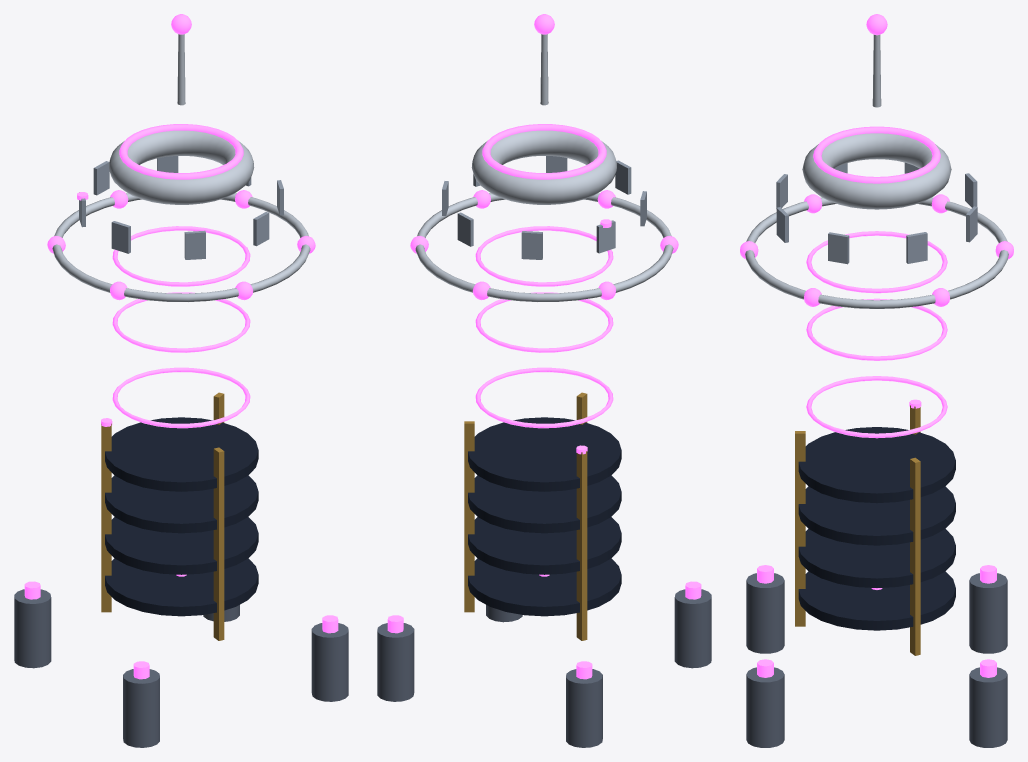
The model's file is tower_arc_damage_s9.glb.
3 renders of one model, left to right at view 1: azimuth 30°, elevation 25°; view 2: azimuth 150°, elevation 25°; view 3: azimuth 270°, elevation 25°, orthographic. The views are drawn at different scales.
Visible parts, largest first — view 1: arc_insulator_sleeve3, arc_toroid_b, arc_insulator_sleeve2, arc_insulator_sleeve1, arc_insulator_sleeve0, arc_electrode_ring, arc_shock_cap0, arc_shock_cap2, arc_shock_cap3, arc_ground_strap2, arc_toroid_b_glow, arc_ground_strap0 (+6 smaller); view 2: arc_insulator_sleeve3, arc_toroid_b, arc_insulator_sleeve2, arc_insulator_sleeve1, arc_insulator_sleeve0, arc_electrode_ring, arc_shock_cap3, arc_shock_cap1, arc_shock_cap0, arc_ground_strap0, arc_toroid_b_glow, arc_ground_strap1 (+5 smaller); view 3: arc_insulator_sleeve3, arc_toroid_b, arc_insulator_sleeve2, arc_insulator_sleeve1, arc_insulator_sleeve0, arc_electrode_ring, arc_shock_cap0, arc_shock_cap3, arc_shock_cap1, arc_shock_cap2, arc_toroid_b_glow, arc_ground_strap1 (+7 smaller).
Boxes of the visible parts, <box> form: arc_insulator_sleeve3: <box>105,417,258,491</box>; arc_toroid_b: <box>109,130,254,204</box>; arc_insulator_sleeve2: <box>105,475,258,533</box>; arc_insulator_sleeve1: <box>105,517,258,574</box>; arc_insulator_sleeve0: <box>105,558,258,616</box>; arc_electrode_ring: <box>52,193,310,301</box>; arc_shock_cap0: <box>14,589,51,668</box>; arc_shock_cap2: <box>311,623,348,701</box>; arc_shock_cap3: <box>123,669,159,747</box>; arc_ground_strap2: <box>213,447,224,640</box>; arc_toroid_b_glow: <box>119,124,243,179</box>; arc_ground_strap0: <box>101,423,111,612</box>; arc_insulator_sleeve3: <box>468,417,621,491</box>; arc_toroid_b: <box>471,130,616,204</box>; arc_insulator_sleeve2: <box>468,475,621,533</box>; arc_insulator_sleeve1: <box>468,517,621,574</box>; arc_insulator_sleeve0: <box>468,558,621,616</box>; arc_electrode_ring: <box>415,193,673,301</box>; arc_shock_cap3: <box>674,589,711,668</box>; arc_shock_cap1: <box>377,623,414,701</box>; arc_shock_cap0: <box>566,669,602,747</box>; arc_ground_strap0: <box>576,451,587,640</box>; arc_toroid_b_glow: <box>482,124,606,179</box>; arc_ground_strap1: <box>464,421,474,612</box>; arc_insulator_sleeve3: <box>798,427,955,503</box>; arc_toroid_b: <box>802,133,951,209</box>; arc_insulator_sleeve2: <box>798,486,955,545</box>; arc_insulator_sleeve1: <box>798,529,955,587</box>; arc_insulator_sleeve0: <box>798,571,955,630</box>; arc_electrode_ring: <box>745,197,1008,308</box>; arc_shock_cap0: <box>969,573,1007,653</box>; arc_shock_cap3: <box>746,573,784,653</box>; arc_shock_cap1: <box>969,667,1007,747</box>; arc_shock_cap2: <box>746,667,784,747</box>; arc_toroid_b_glow: <box>813,126,940,183</box>; arc_ground_strap1: <box>910,457,920,655</box>.
Bounding box in the file's own units: 1.24 × 3.51 × 1.29.
